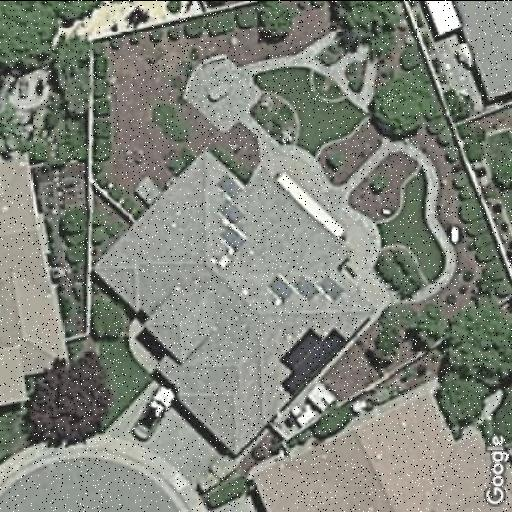solar-panel: (276, 324, 346, 396), (212, 172, 246, 256), (263, 272, 349, 304)
